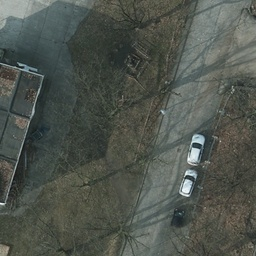car: (178, 168, 198, 199), (186, 134, 204, 165), (172, 206, 188, 226)
